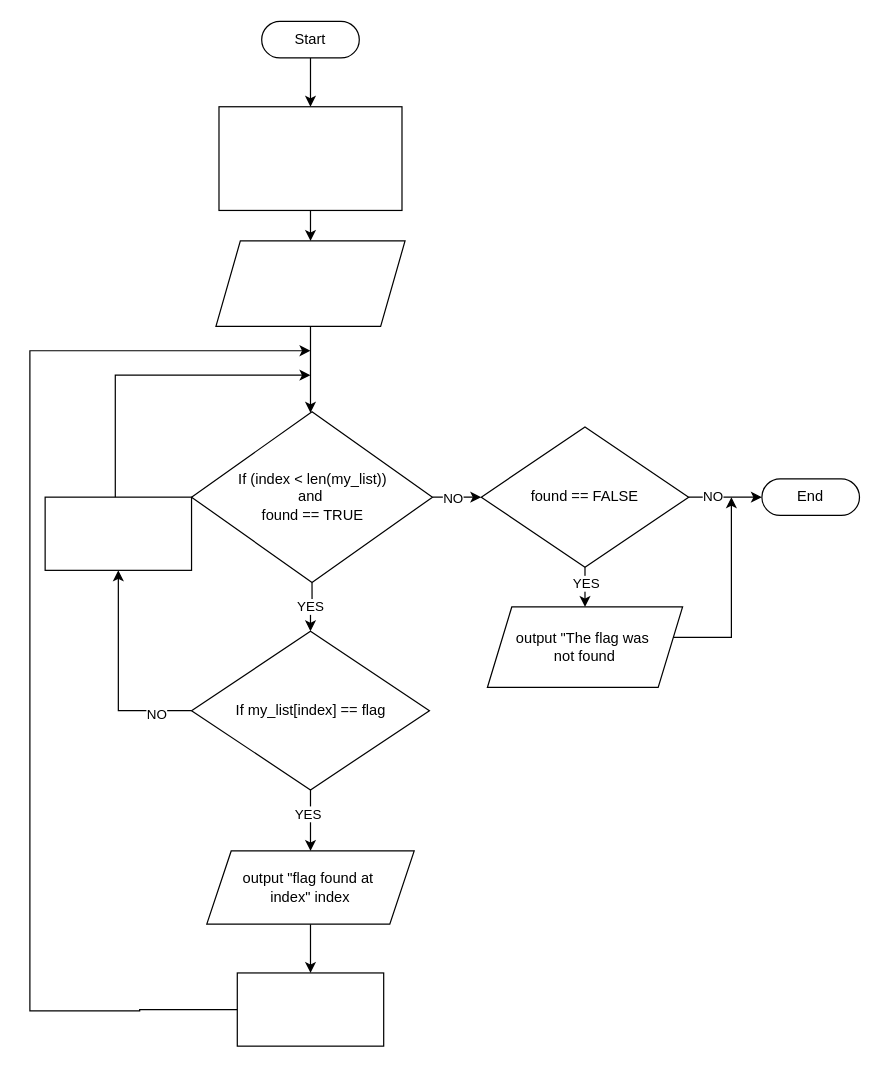
Some shapes in this 881 by 1068 pixel diagram are drawn without their labels. Here are the shapes that lost their labels. From the top down, the box of each, then its label:
(218, 106, 402, 210): my_list = ["a", "b", "w", "t"] found = FALSE index = 0
(215, 240, 405, 326): flag = Input "which value would you like to find?"
(44, 496, 192, 570): index = index + 1
(236, 972, 384, 1046): found = TRUE
